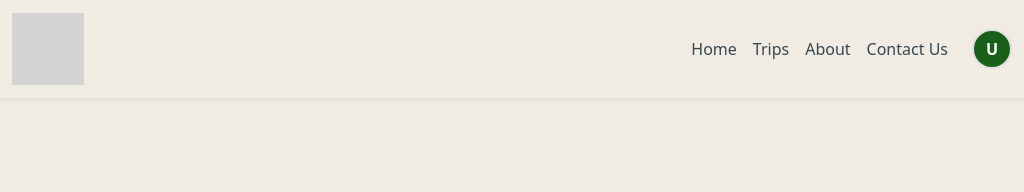
NavigationBar › handles user with email as loginId
The image size is (1024, 192).
// Click to open dropdown and check username display
Click the text "U".
click(992, 49)  # box [972,29,1012,69]
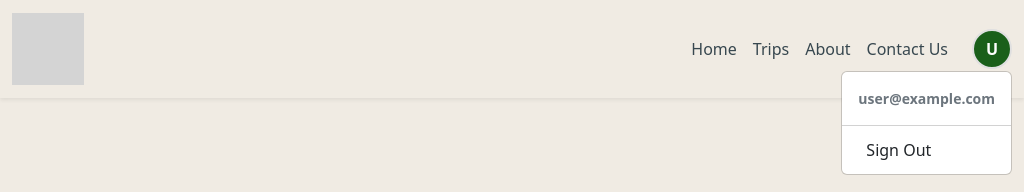
Expected: the text "user@example.com" is shown, [858,89,995,108]
